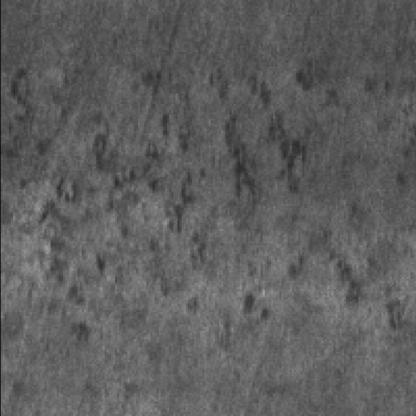rolled-in_scale: (42, 58, 370, 231), (202, 239, 412, 337)
